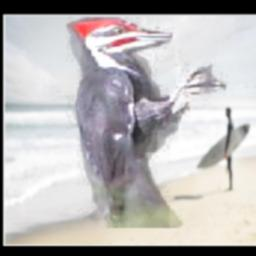Woodpecker: (65, 18, 227, 229)
